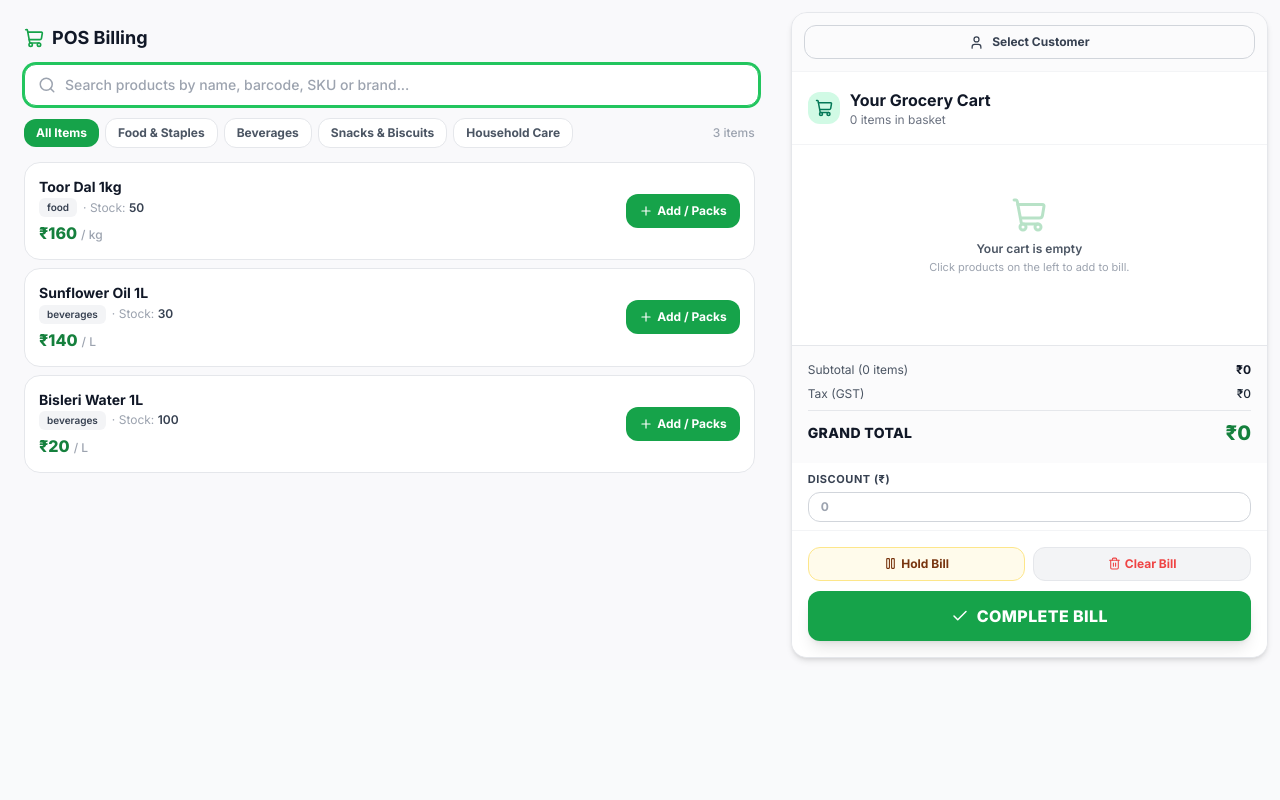
Test: POSPage Component & Buttons › opens Customer Selector modal and selects customer
Click the button "Select Customer".
click(1029, 42)  # box [804,25,1255,59]
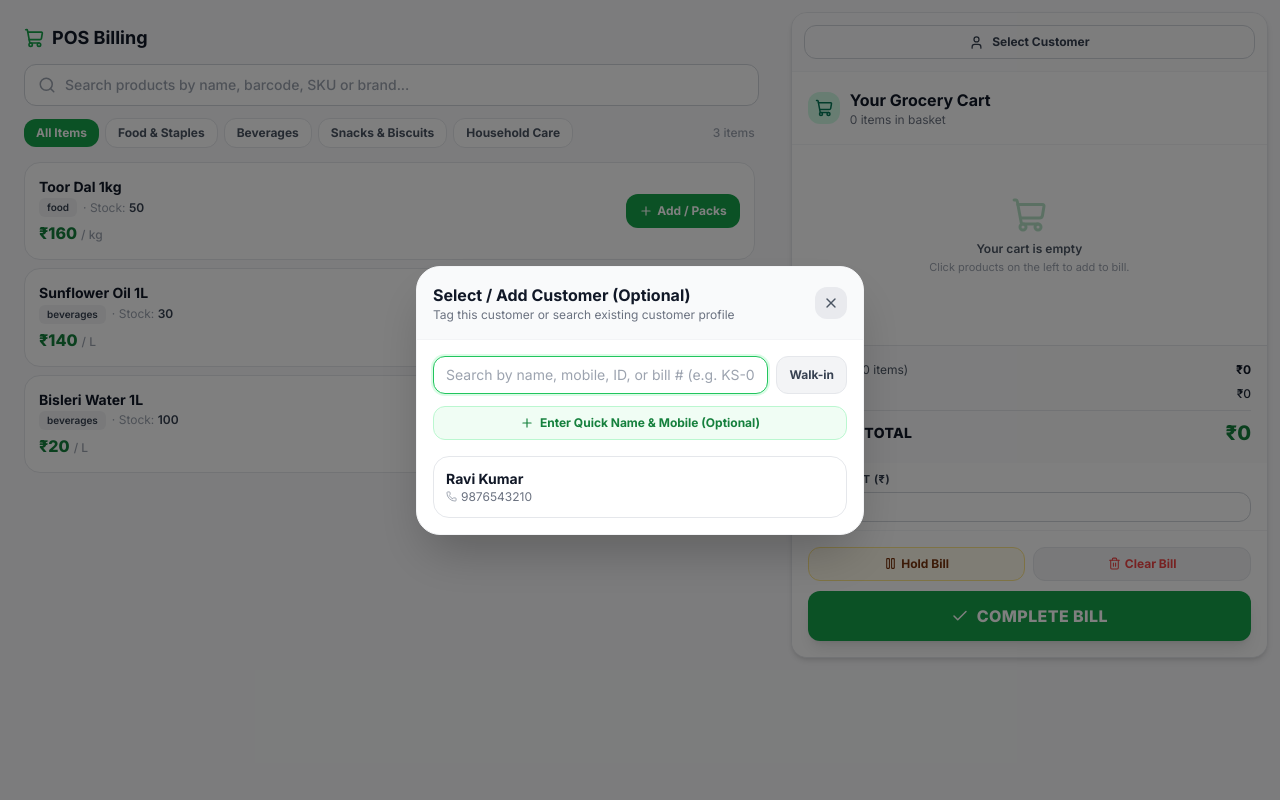
Check: the field with placeholder "Search by name, mobile, ID, or bill # (e.g. KS-000008)..." is shown, box [433,356,768,394]
